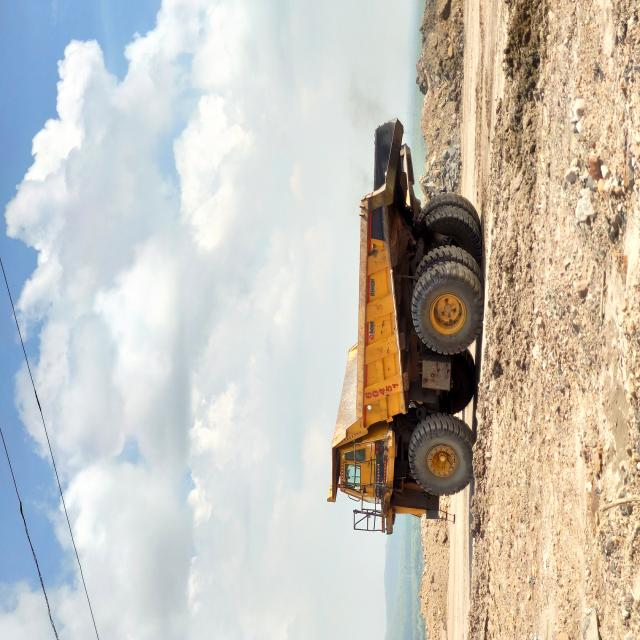dump_truck: (80, 441, 390, 640)
